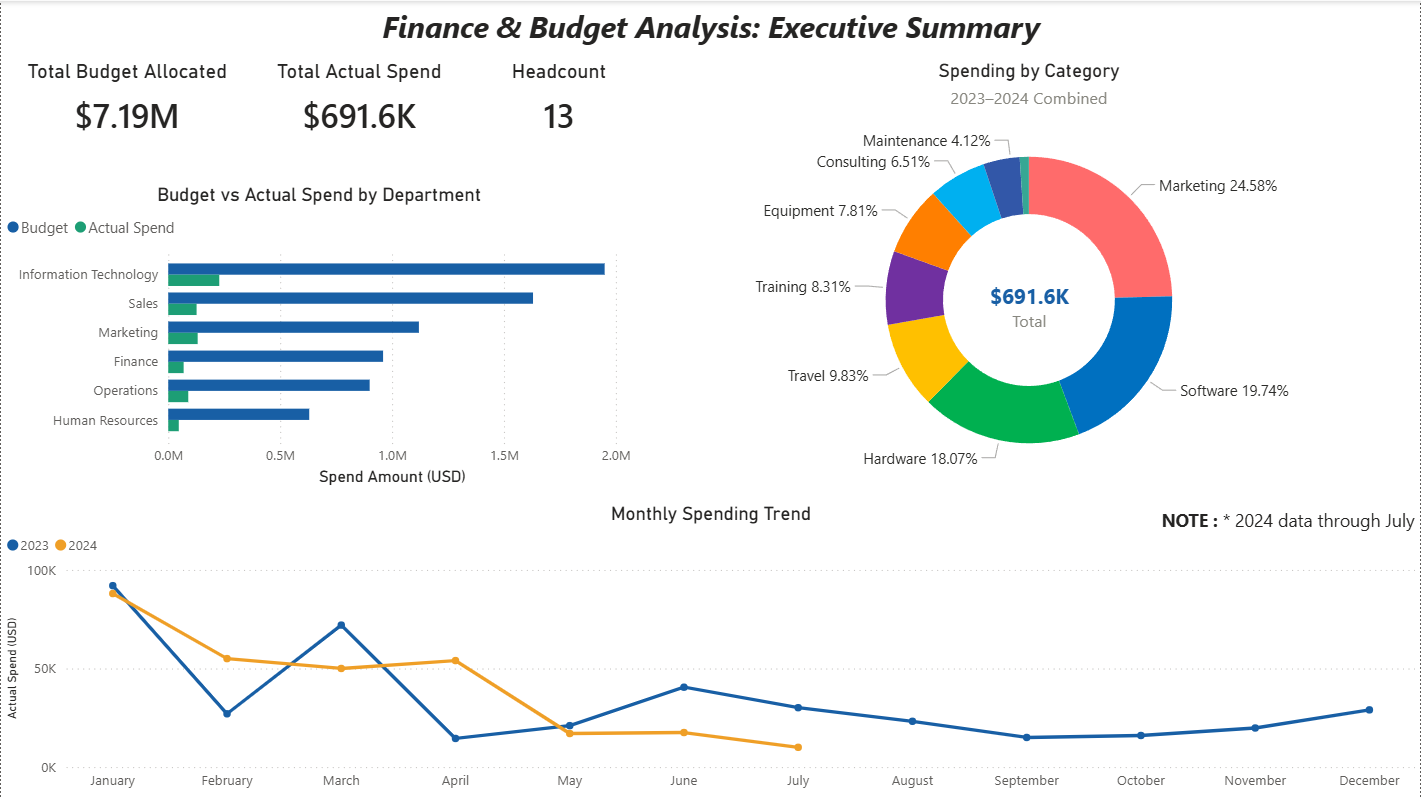

The page's visual inventory and layout, read from the dashboard file:
{"tool":"powerbi","page":{"name":"Executive Summary","canvas":[1280,720],"ordinal":0},"visuals":[{"type":"cardVisual","title":"Total Budget Allocated","fields":{"Data":["Sum(public budget.allocated_amount)"]},"box":[0,53.5,227.8,81],"z":0},{"type":"cardVisual","title":"Total Actual Spend","fields":{"Data":["Sum(public expenses.amount)"]},"box":[227.8,53.5,190.7,81],"z":1000},{"type":"cardVisual","title":"Headcount","fields":{"Data":["CountNonNull(public employees.employee_id)"]},"box":[418.5,53.5,170.2,81],"z":2000},{"type":"clusteredBarChart","title":"Budget vs Actual Spend by Department","fields":{"Category":["public departments.department_name"],"Y":["Sum(public budget.allocated_amount)","Sum(public expenses.amount)"]},"box":[0,164.7,573.6,277.2],"z":3000},{"type":"lineChart","title":"Monthly Spending Trend","fields":{"Category":["public expenses.expense_date.Variation.Date Hierarchy.Month"],"Y":["Sum(public expenses.amount)"],"Series":["public expenses.expense_date.Variation.Date Hierarchy.Year"]},"box":[0,451.5,1280.3,269],"z":4000},{"type":"donutChart","title":"Spending by Category","fields":{"Category":["public expenses.category"],"Y":["Sum(public expenses.amount)"]},"box":[573.6,53.5,706.7,388.3],"z":5000},{"type":"textbox","box":[0,0,1280.3,53.5],"z":6000},{"type":"textbox","box":[981.1,451.5,299.1,48],"z":7000},{"type":"textbox","box":[860.4,248.4,134.5,54.9],"z":8501}]}

Visuals, with their boxes in screenshot pixels (x1, y1, x2, y2), scaled from the page's 1280x720 canvas onto the 1421x798 screenshot:
"Total Budget Allocated" cardVisual: l=0, t=59, r=253, b=149
"Total Actual Spend" cardVisual: l=253, t=59, r=465, b=149
"Headcount" cardVisual: l=465, t=59, r=654, b=149
"Budget vs Actual Spend by Department" clusteredBarChart: l=0, t=183, r=637, b=490
"Monthly Spending Trend" lineChart: l=0, t=500, r=1420, b=797
"Spending by Category" donutChart: l=637, t=59, r=1420, b=490
textbox: l=0, t=0, r=1420, b=59
textbox: l=1089, t=500, r=1420, b=554
textbox: l=955, t=275, r=1104, b=336
